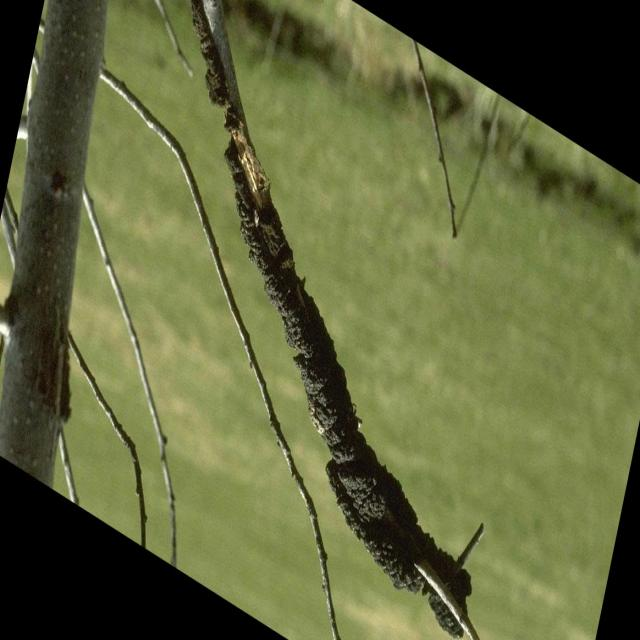Black_knot: (188, 2, 486, 636)
